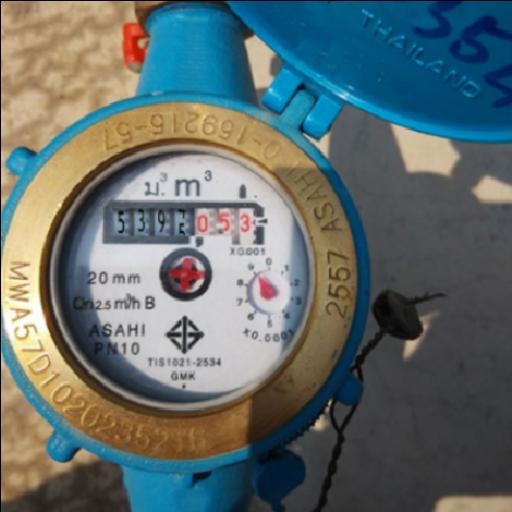0: (195, 208, 211, 236)
3: (238, 207, 254, 246), (133, 207, 147, 237)
4: (173, 208, 187, 238)
5: (217, 208, 232, 237), (113, 208, 127, 238)
9: (154, 208, 168, 238)
border_water_meter_number: (103, 201, 264, 246)
